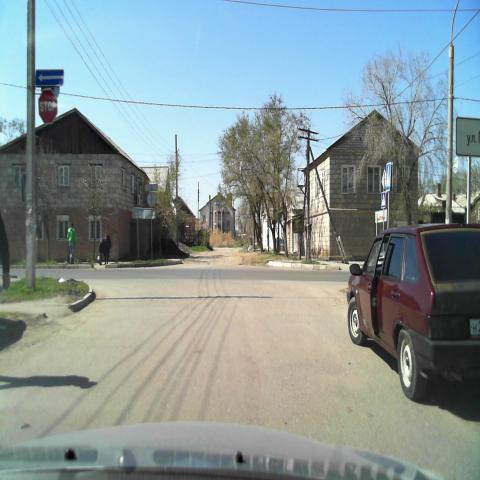5_7_2: (34, 68, 64, 85)
